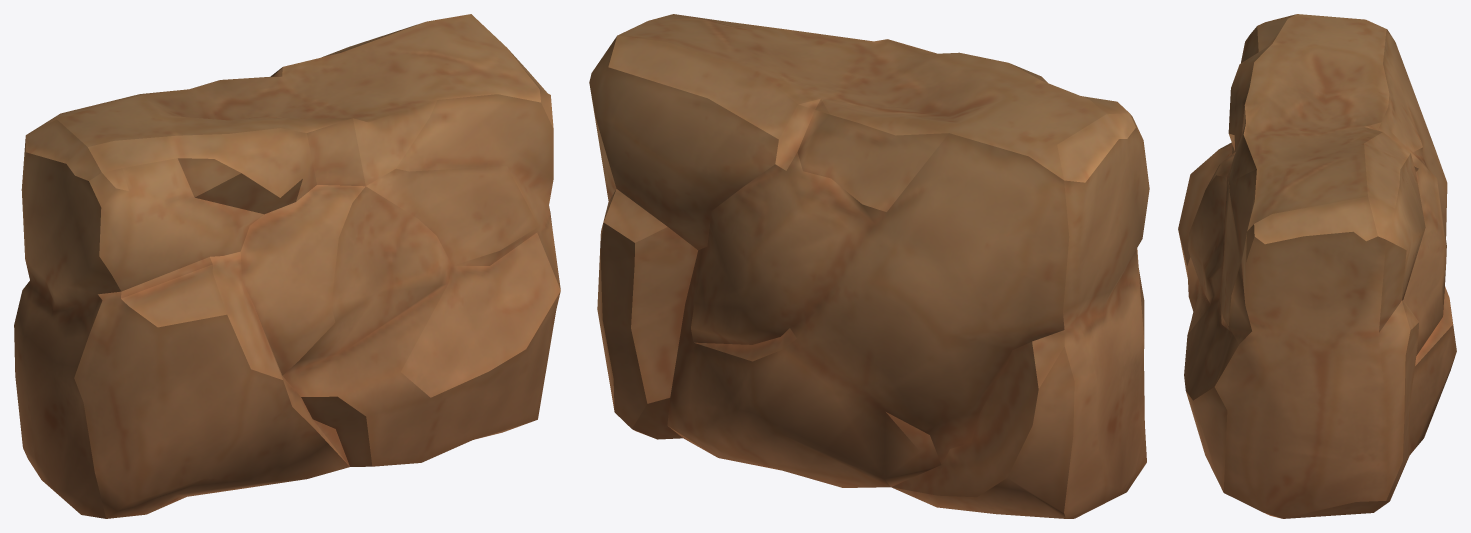
The model's file is Prop_Soil_2.fbx.
3 views of the same model, side by side, from view 1: azimuth 30°, elevation 25°; view 2: azimuth 150°, elevation 25°; view 3: azimuth 270°, elevation 25° (orthographic). The views are drawn at different scales.
Parts seen in each view (by area): view 1: cliff; view 2: cliff; view 3: cliff.
Boxes of the visible parts, x1,y1,x2,y2 form: cliff: (14,14,560,518); cliff: (589,14,1149,518); cliff: (1178,14,1456,518).
Bounding box in the file's own units: 204 × 157 × 118.
1 material, 1 textured.
